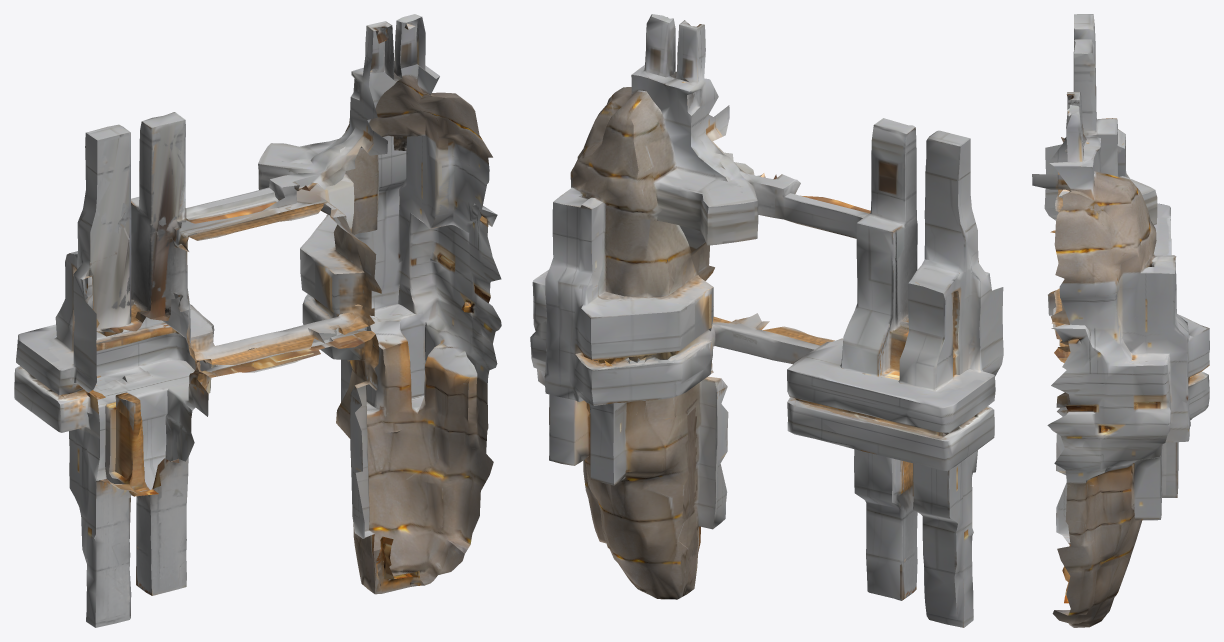
The model's file is bldg_mine_tower_back.glb.
3 renders of one model, left to right at view 1: azimuth 30°, elevation 25°; view 2: azimuth 150°, elevation 25°; view 3: azimuth 270°, elevation 25°, orthographic. The views are drawn at different scales.
Visible parts, largest first — view 1: Meshy_AI_Futuristic_Fortress_o_1230164710_texture; view 2: Meshy_AI_Futuristic_Fortress_o_1230164710_texture; view 3: Meshy_AI_Futuristic_Fortress_o_1230164710_texture.
Part boxes in pixels (x1,y1,x2,y2): Meshy_AI_Futuristic_Fortress_o_1230164710_texture: (14, 14, 501, 627); Meshy_AI_Futuristic_Fortress_o_1230164710_texture: (530, 14, 1003, 627); Meshy_AI_Futuristic_Fortress_o_1230164710_texture: (1032, 14, 1209, 627).
Bounding box in the file's own units: 1.56 × 2.01 × 0.6361.
1 material, 1 textured.
